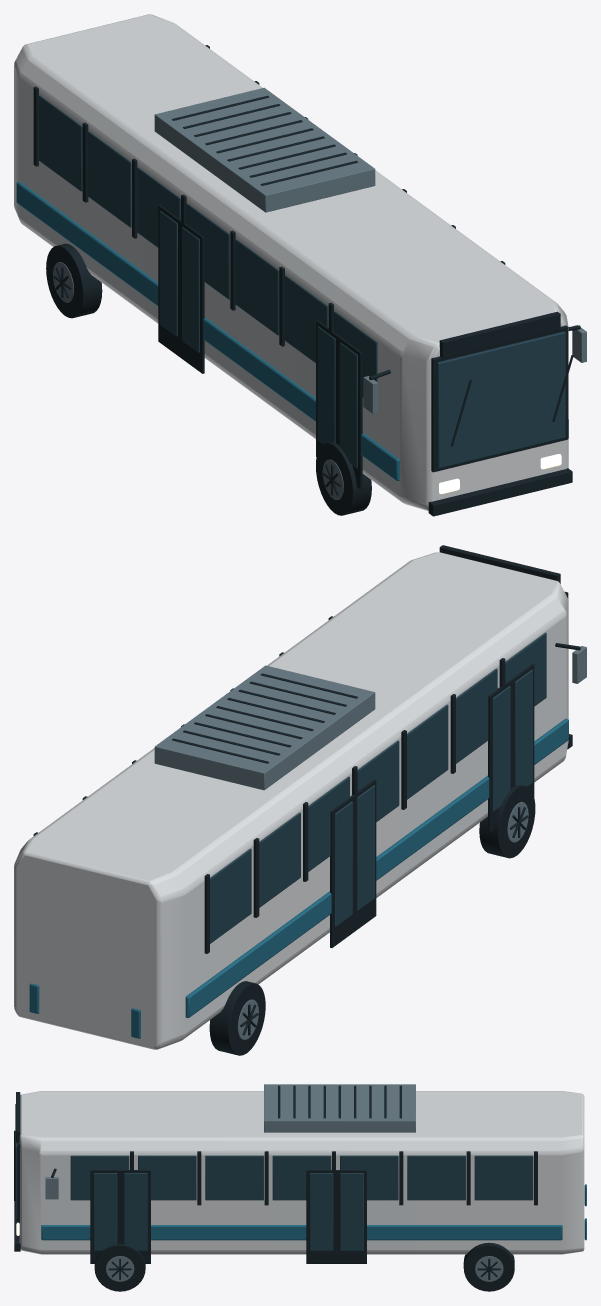
Rendered from electric_bus.glb.
The picture shows the model from 3 angles, top to bottom: view 1: azimuth 30°, elevation 25°; view 2: azimuth 150°, elevation 25°; view 3: azimuth 270°, elevation 25°; orthographic projection. The views are drawn at different scales.
Visible parts, largest first — view 1: Detail.electric_bus.Ivory, Detail.electric_bus.Glass, Detail.electric_bus.Dark, Detail.electric_bus.Metal, Detail.electric_bus.Red; view 2: Detail.electric_bus.Ivory, Detail.electric_bus.Glass, Detail.electric_bus.Dark, Detail.electric_bus.Metal, Detail.electric_bus.Red; view 3: Detail.electric_bus.Ivory, Detail.electric_bus.Glass, Detail.electric_bus.Dark, Detail.electric_bus.Metal, Detail.electric_bus.Red.
Boxes of the visible parts, <box> form: Detail.electric_bus.Ivory: <box>14,14,568,510</box>; Detail.electric_bus.Glass: <box>38,95,565,468</box>; Detail.electric_bus.Dark: <box>33,45,580,516</box>; Detail.electric_bus.Metal: <box>53,87,586,499</box>; Detail.electric_bus.Red: <box>16,181,568,480</box>; Detail.electric_bus.Ivory: <box>14,552,568,1049</box>; Detail.electric_bus.Glass: <box>210,632,546,943</box>; Detail.electric_bus.Dark: <box>33,545,580,1055</box>; Detail.electric_bus.Metal: <box>154,646,586,1039</box>; Detail.electric_bus.Red: <box>29,718,568,1038</box>; Detail.electric_bus.Ivory: <box>19,1091,584,1254</box>; Detail.electric_bus.Glass: <box>15,1104,533,1250</box>; Detail.electric_bus.Dark: <box>14,1085,537,1291</box>; Detail.electric_bus.Metal: <box>45,1084,503,1281</box>; Detail.electric_bus.Red: <box>41,1184,586,1240</box>.
Size of the model in its own units: 3.12 by 3.24 by 10.56.
